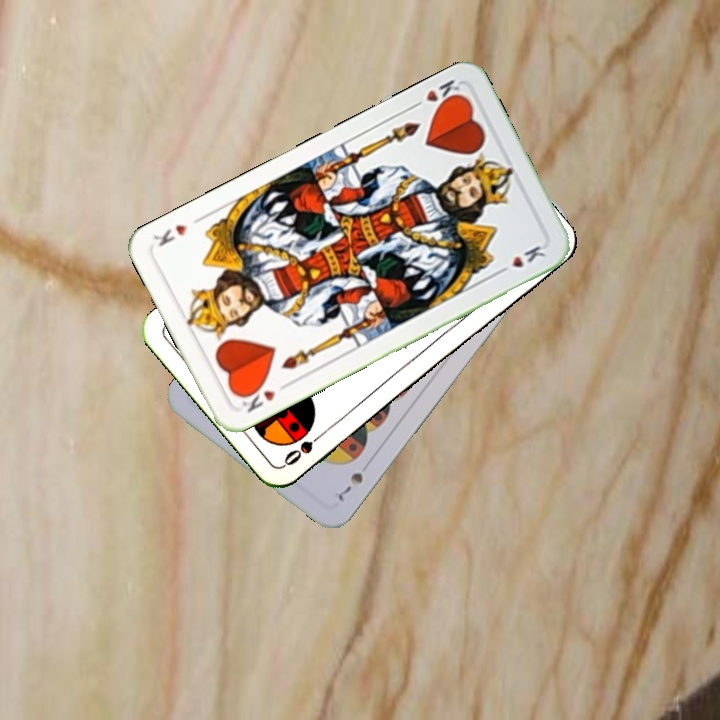HK: (407, 75, 465, 112), (235, 380, 279, 415)
S7: (334, 468, 366, 504)
SO: (279, 425, 330, 469)
